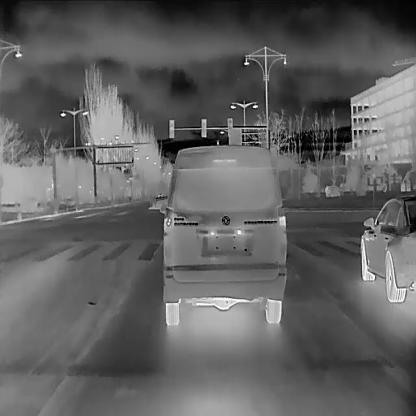car: (158, 144, 285, 325), (359, 194, 415, 302), (158, 192, 162, 197)
